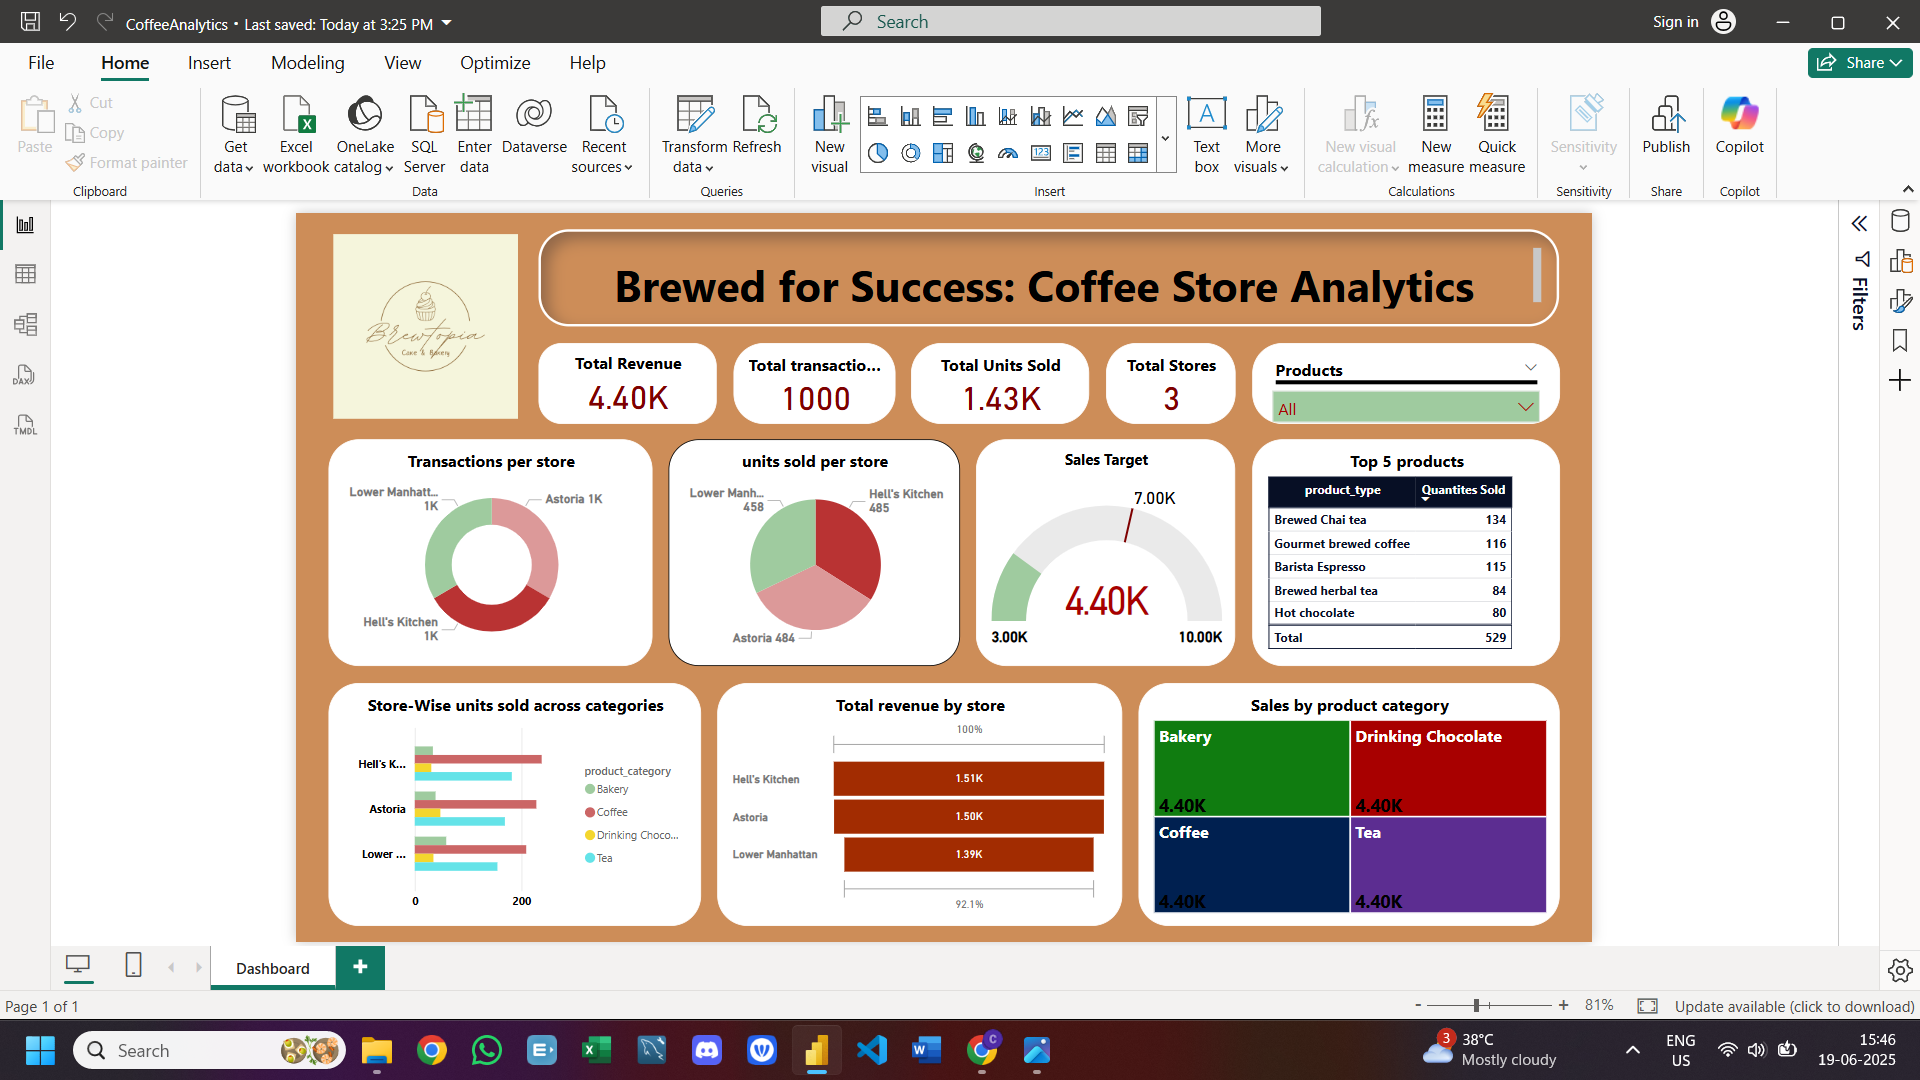

What the dashboard file says about the page in this screenshot:
{"tool":"powerbi","page":{"name":"Dashboard","canvas":[1280,720],"ordinal":0},"visuals":[{"type":"textbox","box":[240,16,1008,96],"z":0},{"type":"card","title":"Total Revenue","fields":{"Values":["Sum(coffeeanalytics category_sales_summary.total_revenue)"]},"box":[240,128,176,80],"z":1000},{"type":"card","title":"Total transactions","fields":{"Values":["Sum(coffeeanalytics category_sales_summary.total_transactions)"]},"box":[432,128,160,80],"z":2000},{"type":"card","title":"Total Units Sold","fields":{"Values":["Sum(coffeeanalytics store_product_sales_summary.units_Sold)"]},"box":[608,128,176,80],"z":3000},{"type":"card","title":"Total Stores","fields":{"Values":["Count(coffeeanalytics average_transaction_value.store_location)"]},"box":[800,128,128,80],"z":4000},{"type":"donutChart","title":"Transactions per store","fields":{"Category":["coffeeanalytics highest_transactions_stores.store_location"],"Y":["Sum(coffeeanalytics category_sales_summary.total_transactions)"]},"box":[32,224,320,224],"z":5000},{"type":"pieChart","title":"units sold per store","fields":{"Category":["coffeeanalytics store_product_sales_summary.store_location"],"Y":["Sum(coffeeanalytics store_product_sales_summary.units_Sold)"]},"box":[368,224,288,224],"z":6000},{"type":"funnel","title":"Total revenue by store","fields":{"Category":["coffeeanalytics store_revenue.store_location"],"Y":["Sum(coffeeanalytics store_revenue.total_revenue)"]},"box":[416,464,400,240],"z":7000},{"type":"clusteredBarChart","title":"Store-Wise units sold across categories","fields":{"Category":["coffeeanalytics store_product_sales_summary.store_location"],"Y":["Sum(coffeeanalytics store_product_sales_summary.units_Sold)"],"Series":["coffeeanalytics store_product_sales_summary.product_category"]},"box":[32,464,368,240],"z":8000},{"type":"gauge","title":"Sales Target","fields":{"Y":["Sum(coffeeanalytics category_sales_summary.total_revenue)"]},"box":[672,224,256,224],"z":9000},{"type":"treemap","title":"Sales by product category","fields":{"Values":["Sum(coffeeanalytics store_product_sales.total_revenue)"],"Group":["coffeeanalytics store_product_sales_summary.product_category"]},"box":[832,464,416,240],"z":10000},{"type":"slicer","fields":{"Values":["coffeeanalytics category_sales_summary.product_category"]},"box":[944,128,304,80],"z":11000},{"type":"tableEx","title":"Top 5 products","fields":{"Values":["coffeeanalytics top_5_products.product_type","Sum(coffeeanalytics top_5_products.quantity_sold)"]},"box":[944,224,304,224],"z":12000},{"type":"image","box":[16,16,224,192],"z":12001}]}

Visuals, with their boxes on the page's 1280x720 design canvas (x1, y1, x2, y2). These are canvas units, not pixel positions in the 1920x1080 screenshot, which may show the page scaled, cropped or inside an application window:
textbox: 240/16/1248/112
"Total Revenue" card: 240/128/416/208
"Total transactions" card: 432/128/592/208
"Total Units Sold" card: 608/128/784/208
"Total Stores" card: 800/128/928/208
"Transactions per store" donutChart: 32/224/352/448
"units sold per store" pieChart: 368/224/656/448
"Total revenue by store" funnel: 416/464/816/704
"Store-Wise units sold across categories" clusteredBarChart: 32/464/400/704
"Sales Target" gauge: 672/224/928/448
"Sales by product category" treemap: 832/464/1248/704
slicer - coffeeanalytics category_sales_summary.product_category: 944/128/1248/208
"Top 5 products" tableEx: 944/224/1248/448
image: 16/16/240/208
